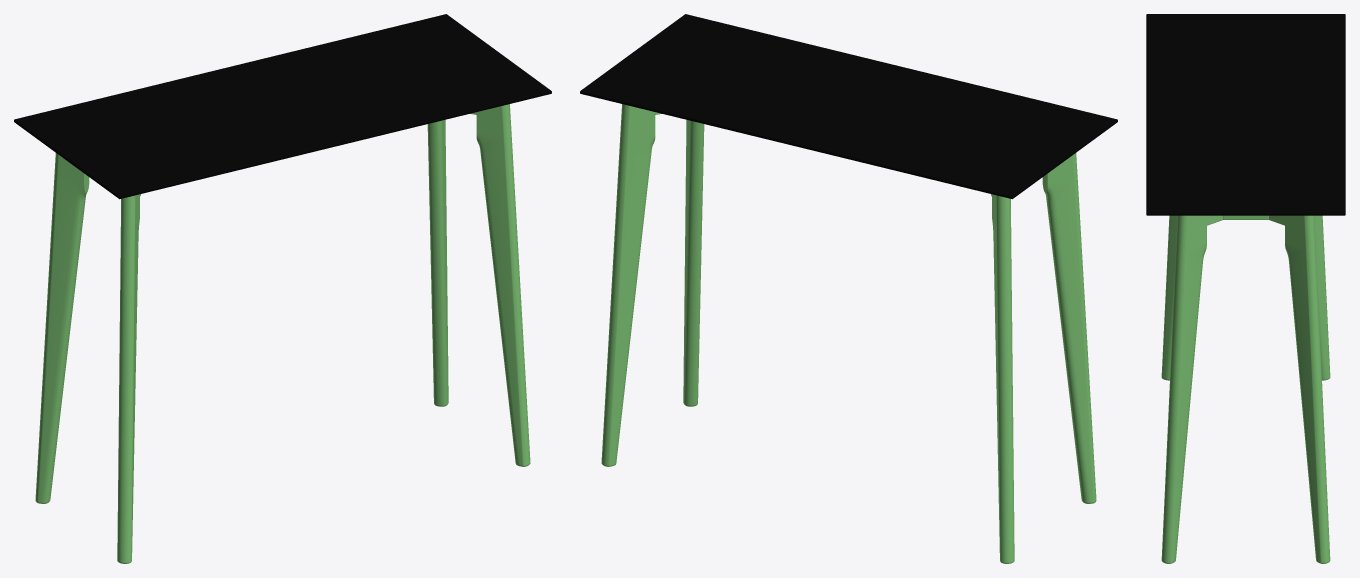
The model's file is Venus_Console_RVD_Corona.fbx.
3 views of the same model, side by side, from view 1: azimuth 30°, elevation 25°; view 2: azimuth 150°, elevation 25°; view 3: azimuth 270°, elevation 25° (orthographic). The views are drawn at different scales.
Parts seen in each view (by area): view 1: glass_rectangle, leg_consol_02, leg_consol_01; view 2: glass_rectangle, leg_consol_02, leg_consol_01; view 3: glass_rectangle, leg_consol_01, leg_consol_02.
Boxes of the visible parts, <box> form: glass_rectangle: <box>14,14,551,199</box>; leg_consol_02: <box>35,153,140,563</box>; leg_consol_01: <box>427,104,530,466</box>; glass_rectangle: <box>580,14,1117,199</box>; leg_consol_02: <box>991,153,1096,563</box>; leg_consol_01: <box>601,104,704,466</box>; glass_rectangle: <box>1146,14,1345,215</box>; leg_consol_01: <box>1161,215,1330,563</box>; leg_consol_02: <box>1161,215,1330,380</box>.
Size of the model in its own units: 90 by 75.01 by 38.
